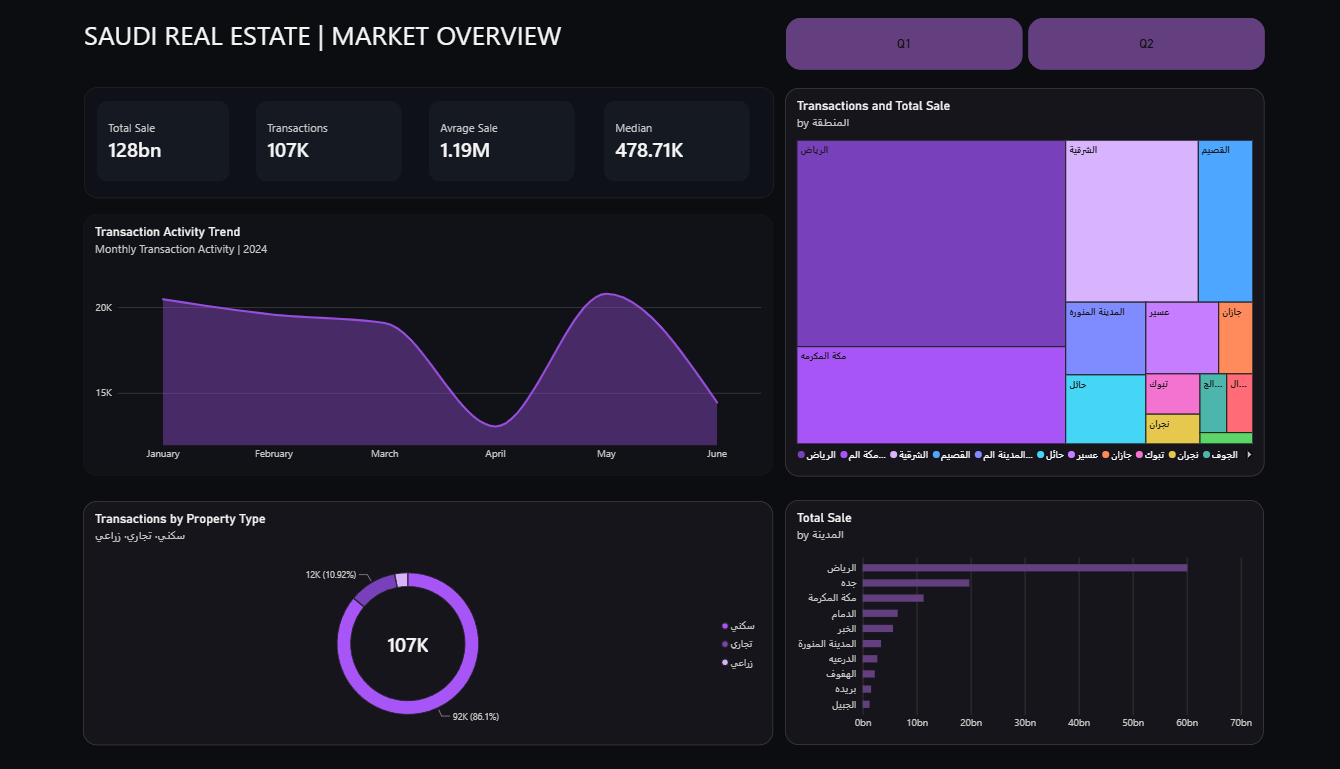

This screenshot's page, from the dashboard's own definition file:
{"tool":"powerbi","page":{"name":"Overview","canvas":[1920,1080],"ordinal":0},"visuals":[{"type":"textbox","box":[122.6,0,1068,78.8],"z":0},{"type":"shape","box":[122.6,100.7,986.3,159],"z":2000},{"type":"cardVisual","fields":{"Data":["real_estate_clean (2).Transactions"]},"box":[369.1,119.6,208.6,115.3],"z":3000},{"type":"cardVisual","fields":{"Data":["real_estate_clean (2).Total Sale"]},"box":[141.5,119.6,189.7,115.3],"z":4000},{"type":"cardVisual","fields":{"Data":["real_estate_clean (2).Median"]},"box":[865.2,119.6,208.6,115.3],"z":5000},{"type":"cardVisual","fields":{"Data":["real_estate_clean (2).Avrage Sale"]},"box":[615.7,119.6,208.6,115.3],"z":6000},{"type":"areaChart","title":"Transaction Activity Trend","fields":{"Category":["real_estate_clean (2).تاريخ الصفقة ميلادي.Variation.Date Hierarchy.Month"],"Y":["real_estate_clean (2).Transactions"]},"box":[122,282,986.1,374.3],"z":8000},{"type":"treemap","fields":{"Group":["real_estate_clean (2).المنطقة"],"Values":["real_estate_clean (2).Transactions"]},"box":[1124.7,101,685,555.2],"z":10000},{"type":"donutChart","title":"Transactions by Property Type","fields":{"Category":["real_estate_clean (2).تصنيف العقار"],"Y":["real_estate_clean (2).Transactions"]},"box":[122,690.7,986.1,349.4],"z":11000},{"type":"advancedSlicerVisual","fields":{"Values":["real_estate_clean (2).quarter"]},"box":[1126.3,1.5,684.3,74.4],"z":12000},{"type":"clusteredBarChart","fields":{"Category":["real_estate_clean (2).المدينة"],"Y":["real_estate_clean (2).Total Sale"]},"box":[1124.9,690.1,684.3,350.2],"z":13000}]}

Visuals, with their boxes in screenshot pixels (x1, y1, x2, y2), scaled from the page's 1920x1080 canvas onto the 1340x769 screenshot:
textbox: (86,0,831,56)
shape: (86,72,774,185)
cardVisual - real_estate_clean (2).Transactions: (258,85,403,167)
cardVisual - real_estate_clean (2).Total Sale: (99,85,231,167)
cardVisual - real_estate_clean (2).Median: (604,85,749,167)
cardVisual - real_estate_clean (2).Avrage Sale: (430,85,575,167)
"Transaction Activity Trend" areaChart: (85,201,773,467)
treemap - real_estate_clean (2).المنطقة x real_estate_clean (2).Transactions: (785,72,1263,467)
"Transactions by Property Type" donutChart: (85,492,773,741)
advancedSlicerVisual - real_estate_clean (2).quarter: (786,1,1264,54)
clusteredBarChart - real_estate_clean (2).المدينة x real_estate_clean (2).Total Sale: (785,491,1263,741)
